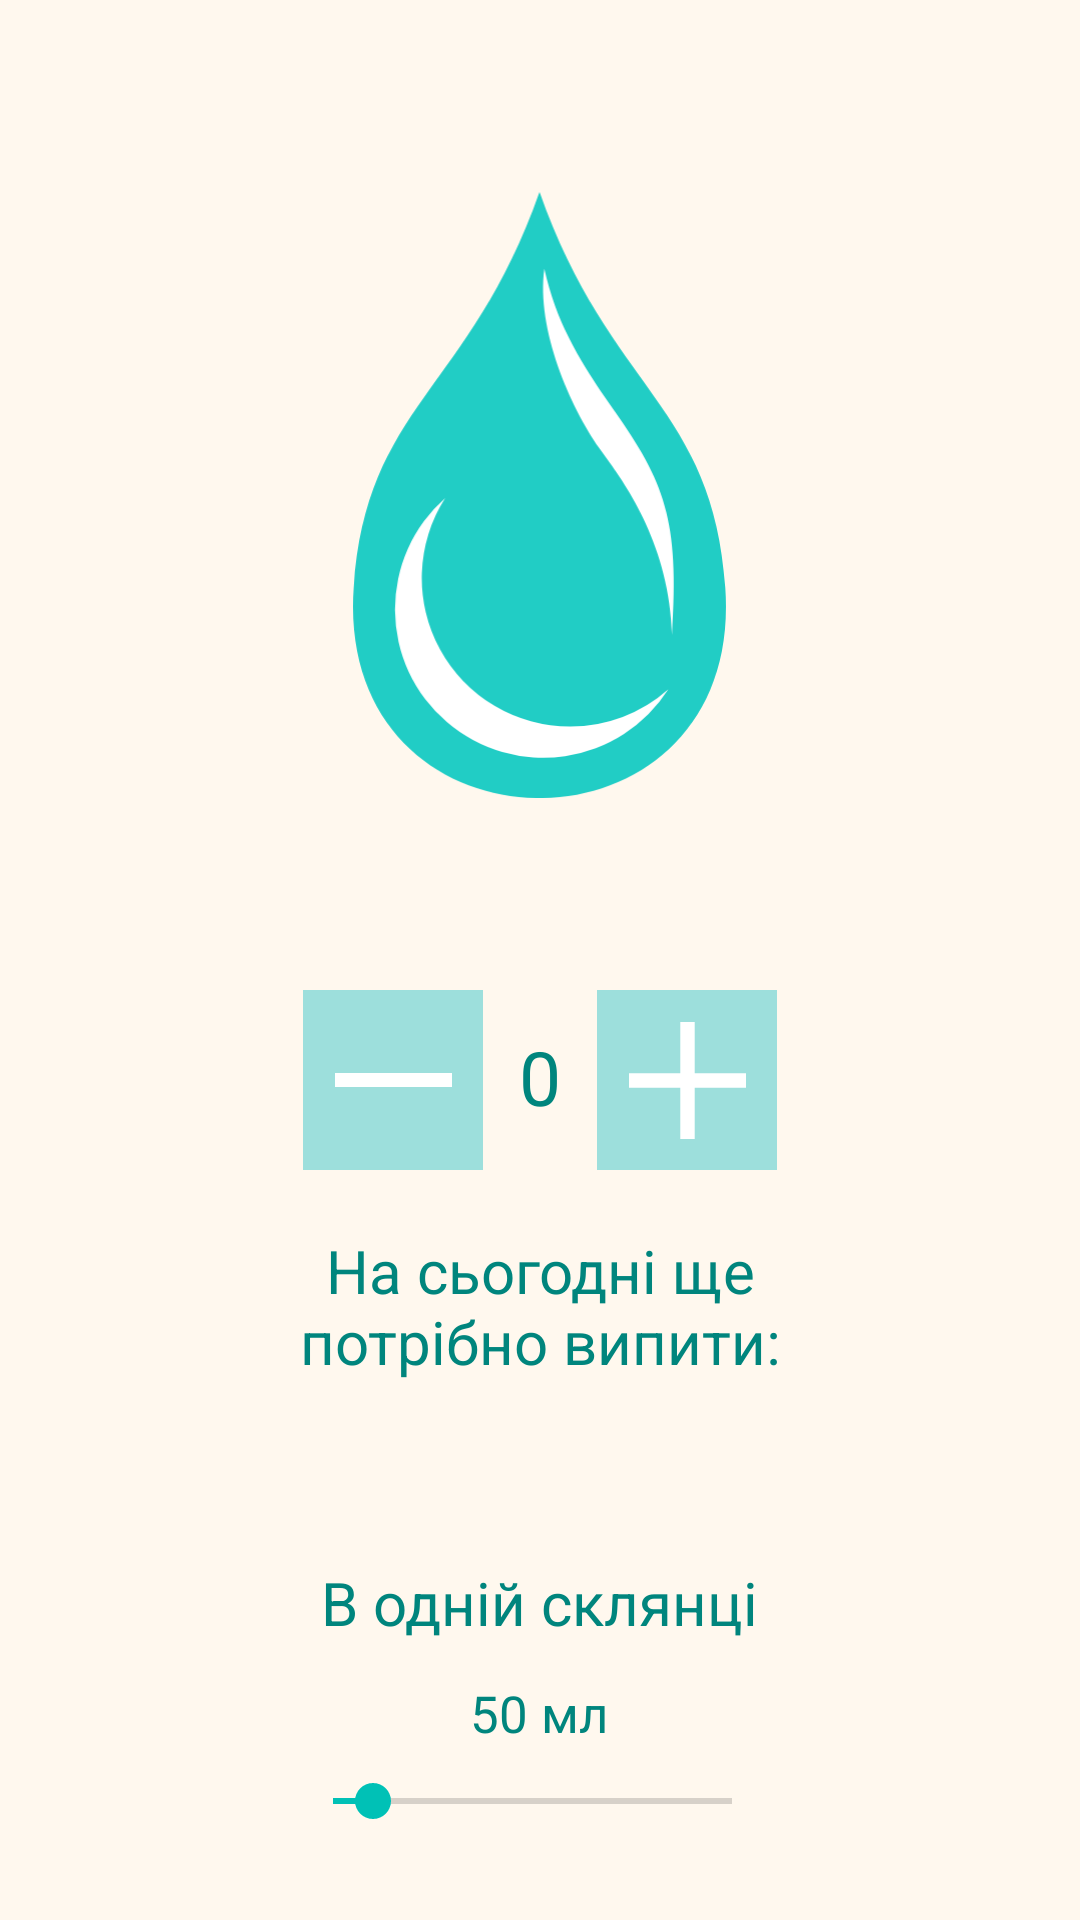

Icon bounding boxes for this 1080 x 1920 phone screenshot, format (x1, y1, x2, y2):
minus: (303, 990, 483, 1170)
plus: (597, 990, 777, 1170)
